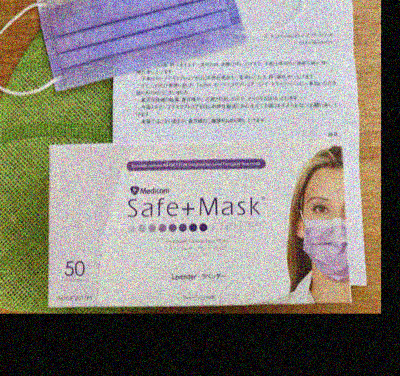with_mask: (303, 194, 349, 283)
